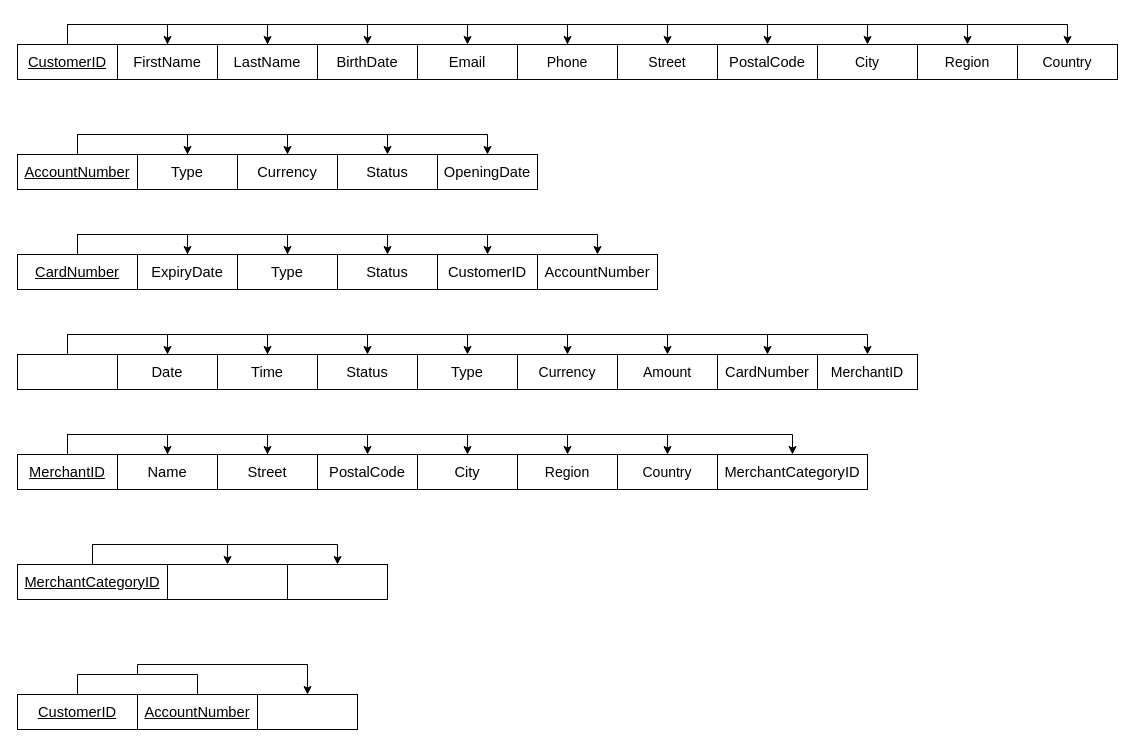
Image size: 1135x747. Some labels were removed from this diagram. Each missing label, with the centre of its shape:
CategoryName: the point at 227,582
Description: the point at 337,582
Role: the point at 307,712
TransactionID: the point at 67,372
